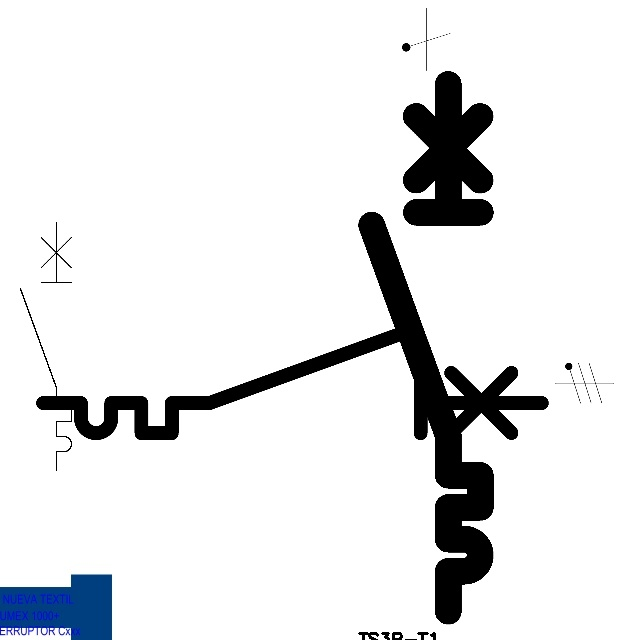interruptor_termomagnetico: (358, 70, 494, 624), (30, 318, 554, 446), (14, 216, 78, 477)
